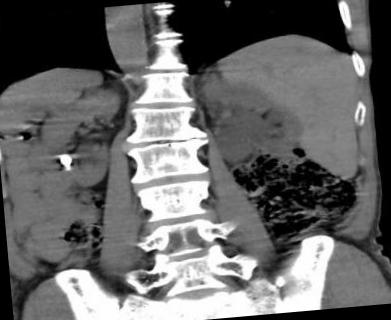Tas_Var: (56, 154, 74, 168), (64, 165, 71, 172)
